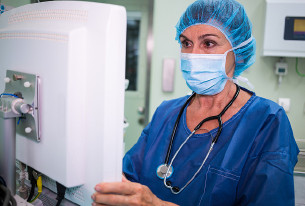face_mask: (180, 21, 231, 93)
